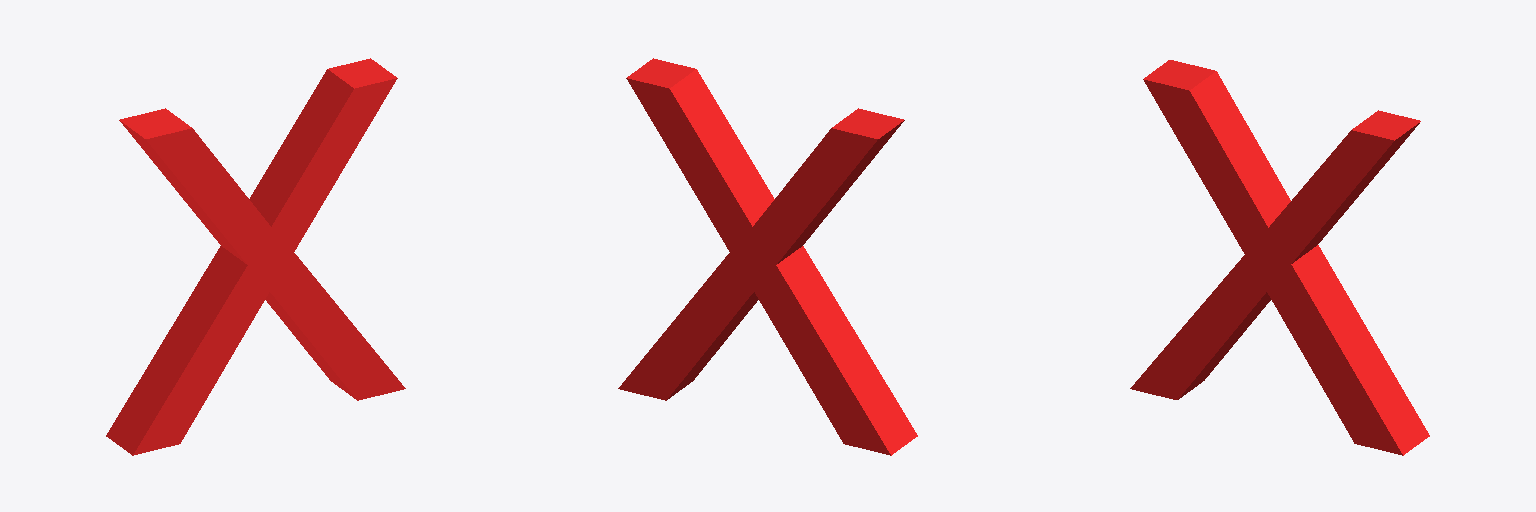
The model's file is trashcan.obj.
The picture shows the model from 3 angles: view 1: azimuth 30°, elevation 25°; view 2: azimuth 150°, elevation 25°; view 3: azimuth 330°, elevation 25°; orthographic projection.
Parts seen in each view (by area): view 1: Text005; view 2: Text005; view 3: Text005.
Boxes of the visible parts, x1,y1,x2,y2 form: Text005: [106, 58, 405, 455]; Text005: [618, 58, 917, 455]; Text005: [1130, 60, 1429, 455].
Size of the model in its own units: 5.86 by 6.41 by 1.